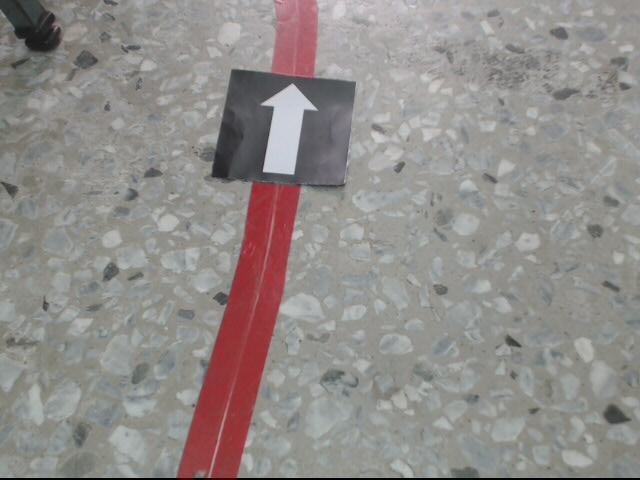straight: (208, 67, 357, 189)
